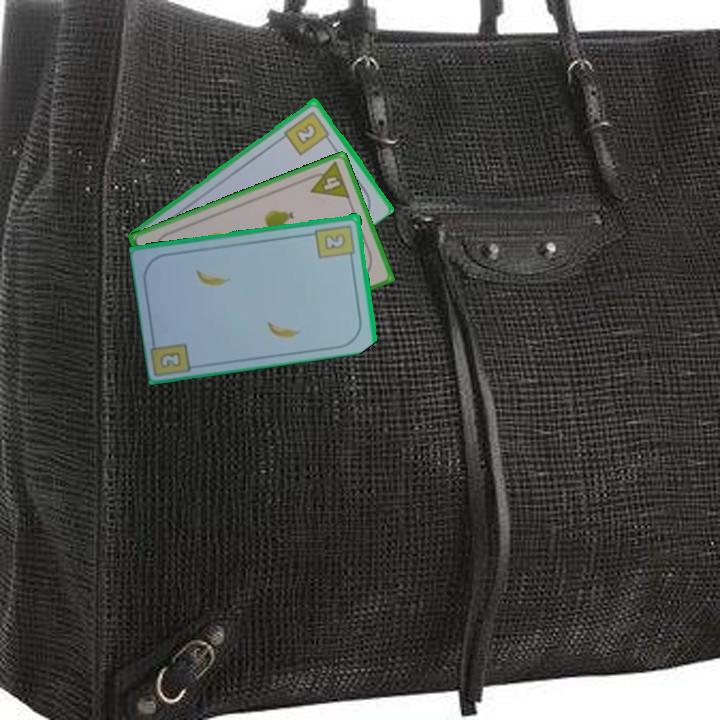2b: (281, 107, 334, 158), (312, 221, 358, 263), (156, 348, 184, 371)
4p: (302, 158, 353, 201)
